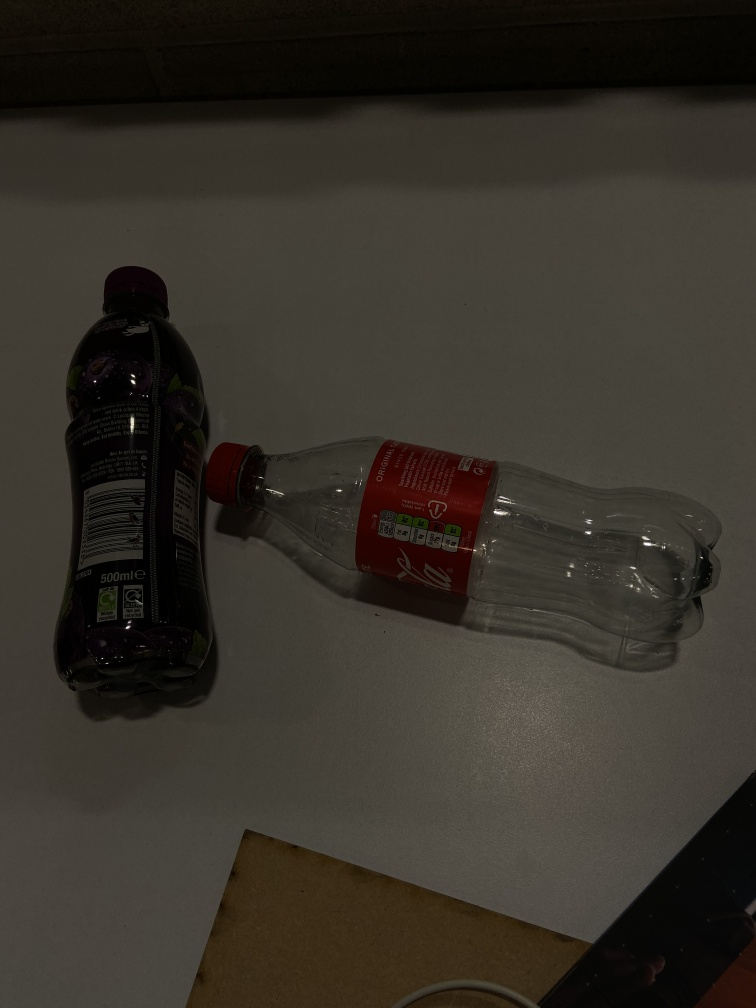bottle_purple: (46, 254, 229, 726)
bottle_red: (199, 433, 722, 653)
